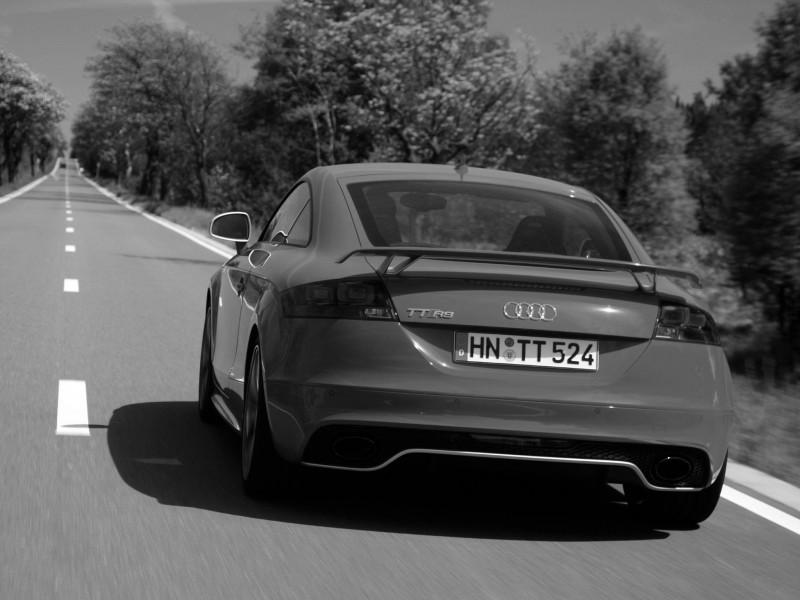car: (196, 159, 739, 529)
